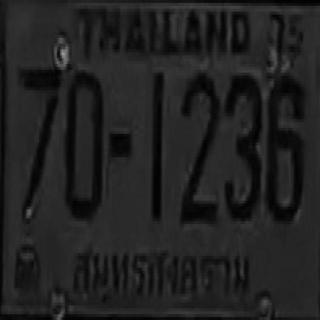N00: (64, 70, 103, 218)
N01: (151, 71, 162, 220)
N02: (180, 70, 218, 221)
N03: (223, 73, 261, 218)
N06: (265, 73, 304, 221)
N07: (20, 64, 61, 215)
P59: (70, 235, 257, 314)
